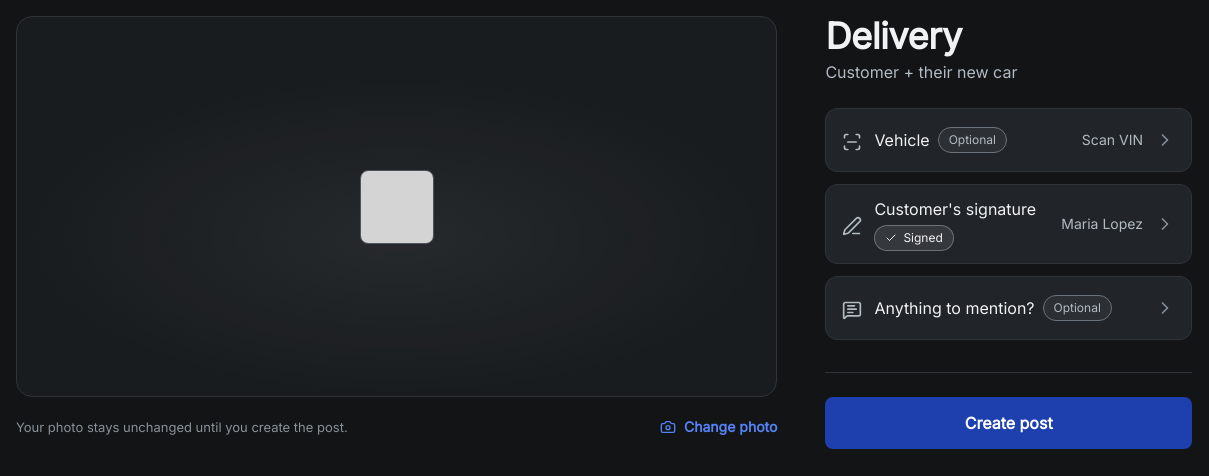
Test: PostDetails › says a stopped create kept the photo and details, in plain words
The width and height of the screenshot is (1209, 476).
(page scrolled)
Click the button "Create post" at (1009, 423), box top-left (825, 397), bottom-right (1192, 449)
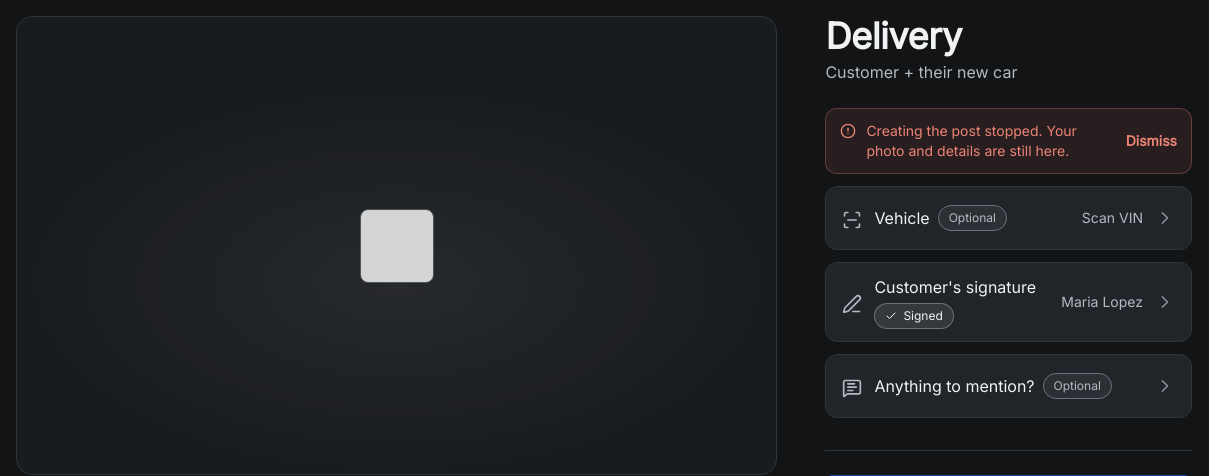
Now the message shows "Creating the post stopped. Your photo and details are still here.", box top-left (866, 122), bottom-right (1077, 159)
